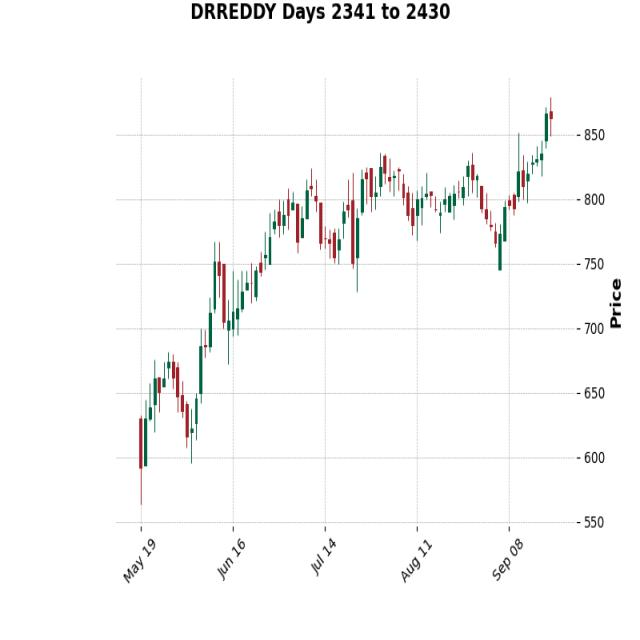Ascending Triangle: (323, 148, 489, 301)
